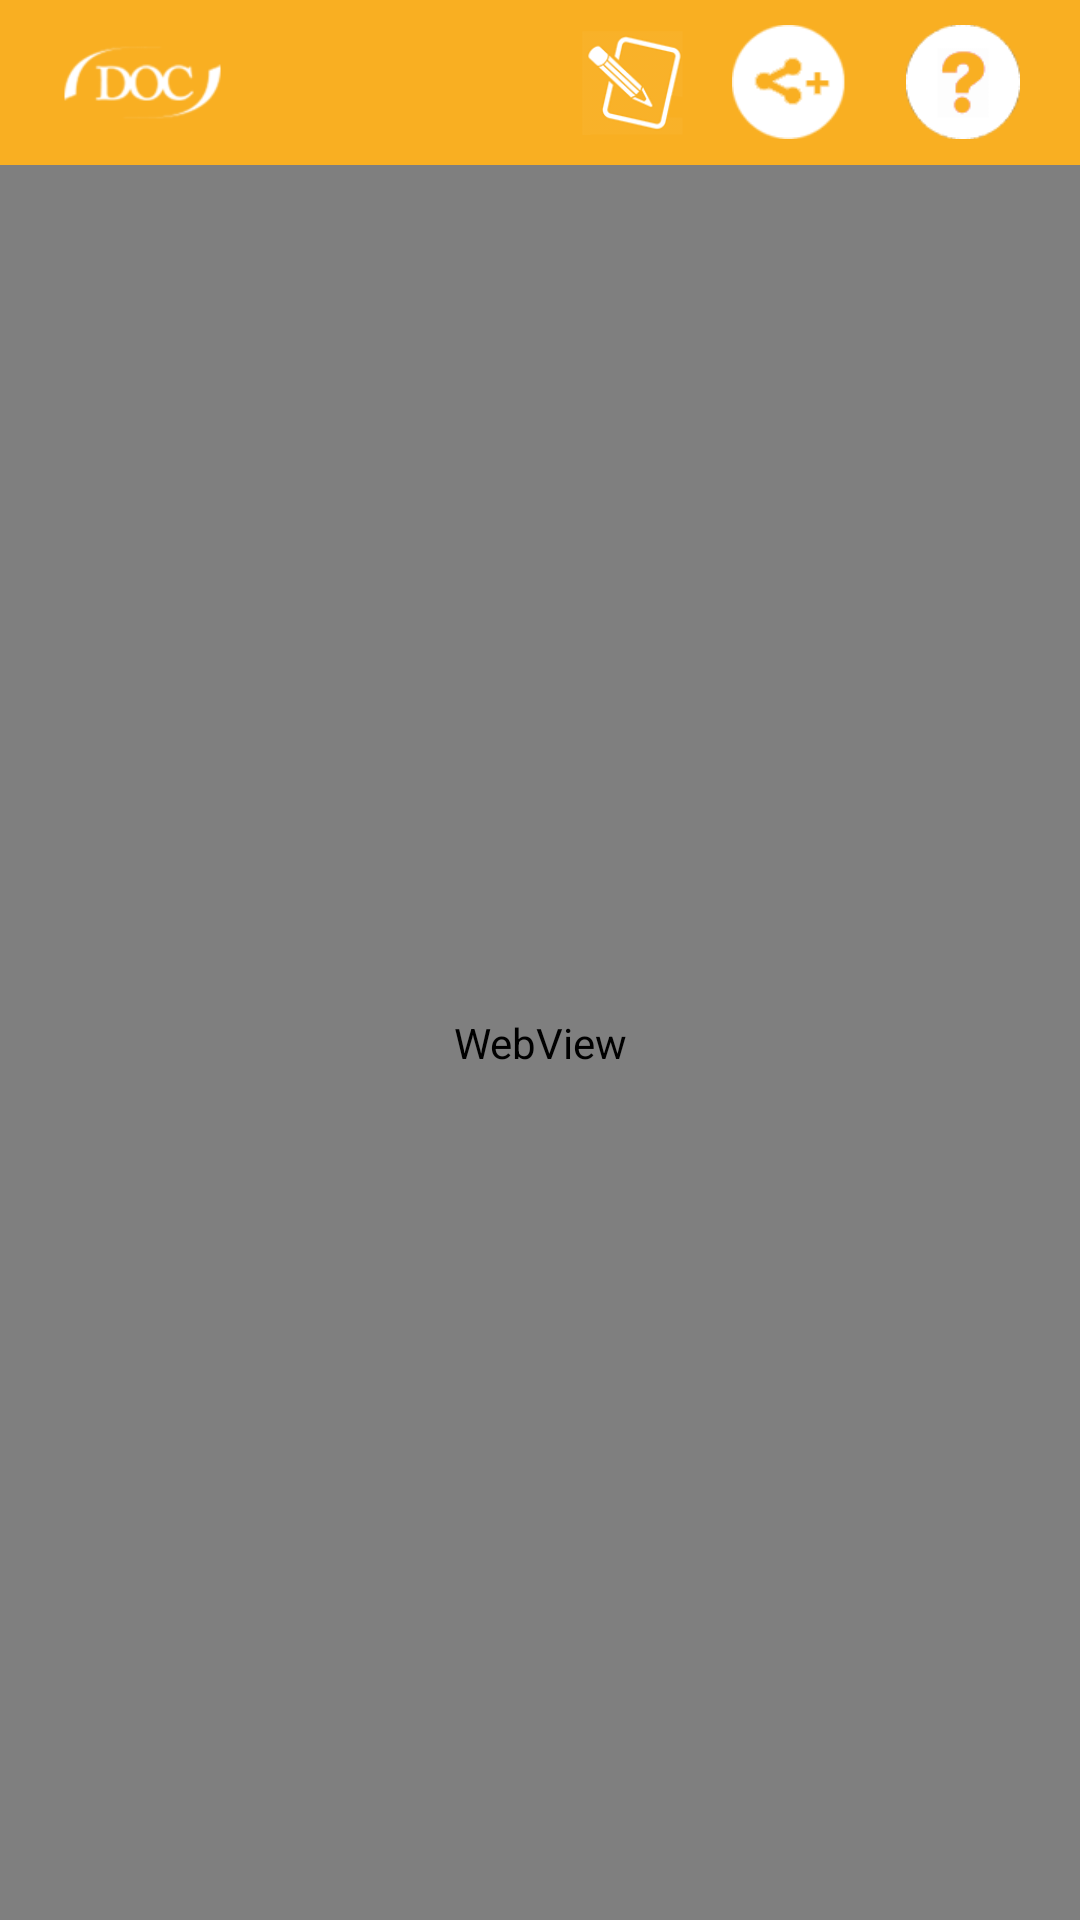

Icon bounding boxes for this 1080*1920 phone screenshot, format bbox=[x1, y1, x2, y2]:
help contents: bbox=[906, 25, 1020, 139]
share: bbox=[732, 25, 845, 139]
